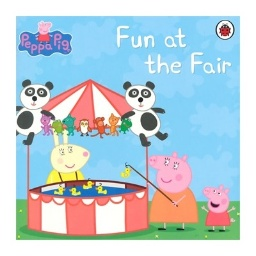Peppa: (201, 186, 236, 233)
